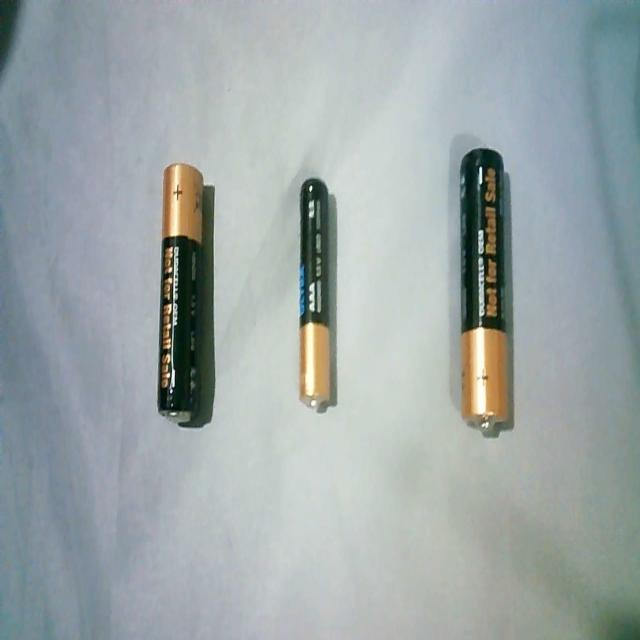AA: (452, 141, 516, 440), (155, 156, 209, 428)
AAA: (295, 168, 338, 417)
